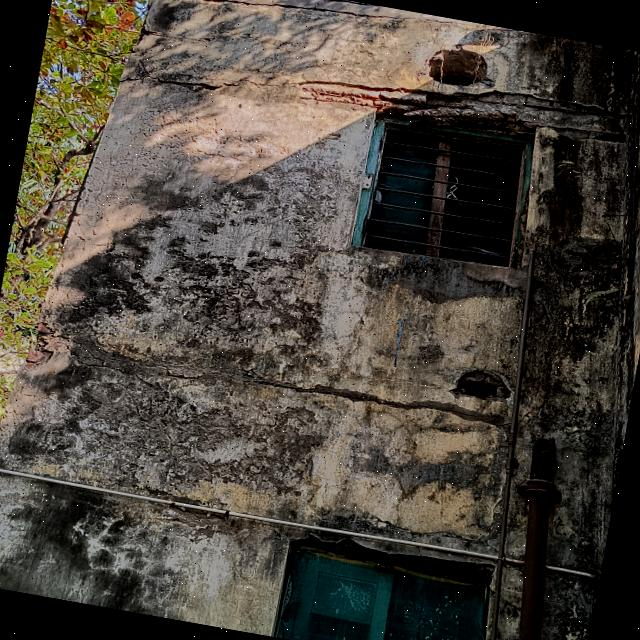crack: (158, 0, 535, 34), (115, 58, 308, 95)
peeling: (0, 32, 640, 640)
spalling: (288, 531, 498, 583), (369, 99, 541, 139), (9, 312, 57, 374)
stain_mould: (0, 32, 640, 640)
